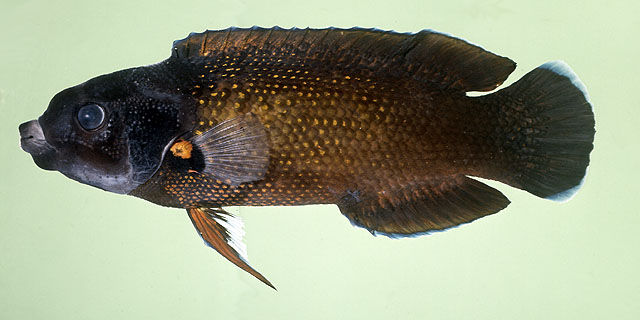fish: (18, 25, 595, 292)
